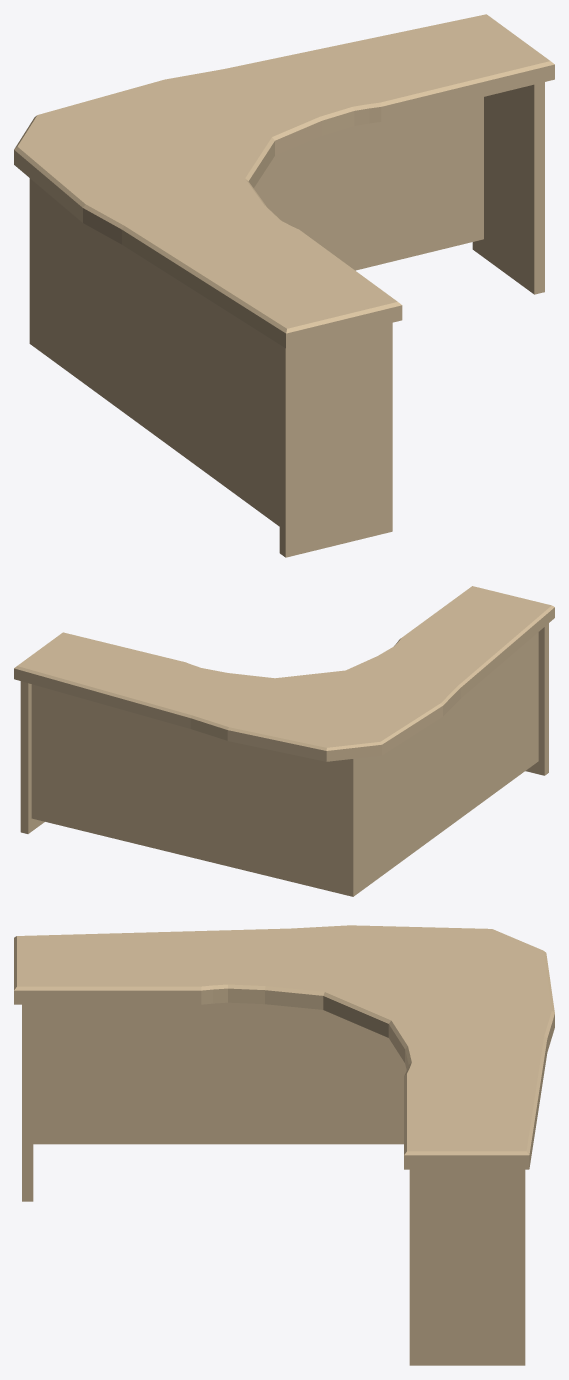
File: desk.glb
The picture shows the model from 3 angles, top to bottom: view 1: azimuth 30°, elevation 25°; view 2: azimuth 150°, elevation 25°; view 3: azimuth 270°, elevation 25°; orthographic projection. The views are drawn at different scales.
Parts seen in each view (by area): view 1: desk_top.001, desk_backs.001, desk_sides.001; view 2: desk_backs.001, desk_top.001, desk_sides.001; view 3: desk_top.001, desk_backs.001, desk_sides.001.
Boxes of the visible parts, x1=… form: desk_top.001: x1=14, y1=14, x2=554, y2=348; desk_backs.001: x1=29, y1=97, x2=483, y2=526; desk_sides.001: x1=279, y1=82, x2=544, y2=557; desk_backs.001: x1=31, y1=632, x2=538, y2=896; desk_top.001: x1=14, y1=586, x2=554, y2=761; desk_sides.001: x1=20, y1=623, x2=548, y2=833; desk_top.001: x1=14, y1=925, x2=554, y2=1169; desk_backs.001: x1=33, y1=1002, x2=406, y2=1144; desk_sides.001: x1=22, y1=1004, x2=525, y2=1365.
Size of the model in its own units: 2.26 by 0.9963 by 2.26.
